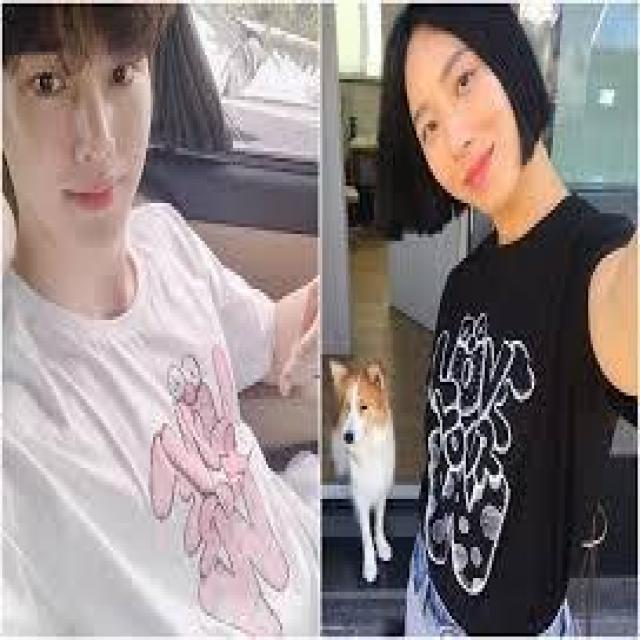Tshirt: (3, 192, 316, 640), (402, 192, 639, 640)
